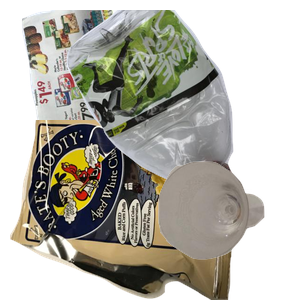glass: (156, 159, 300, 300)
paper: (19, 10, 223, 190)
plastic: (64, 10, 300, 190)
trash: (10, 120, 235, 300)
